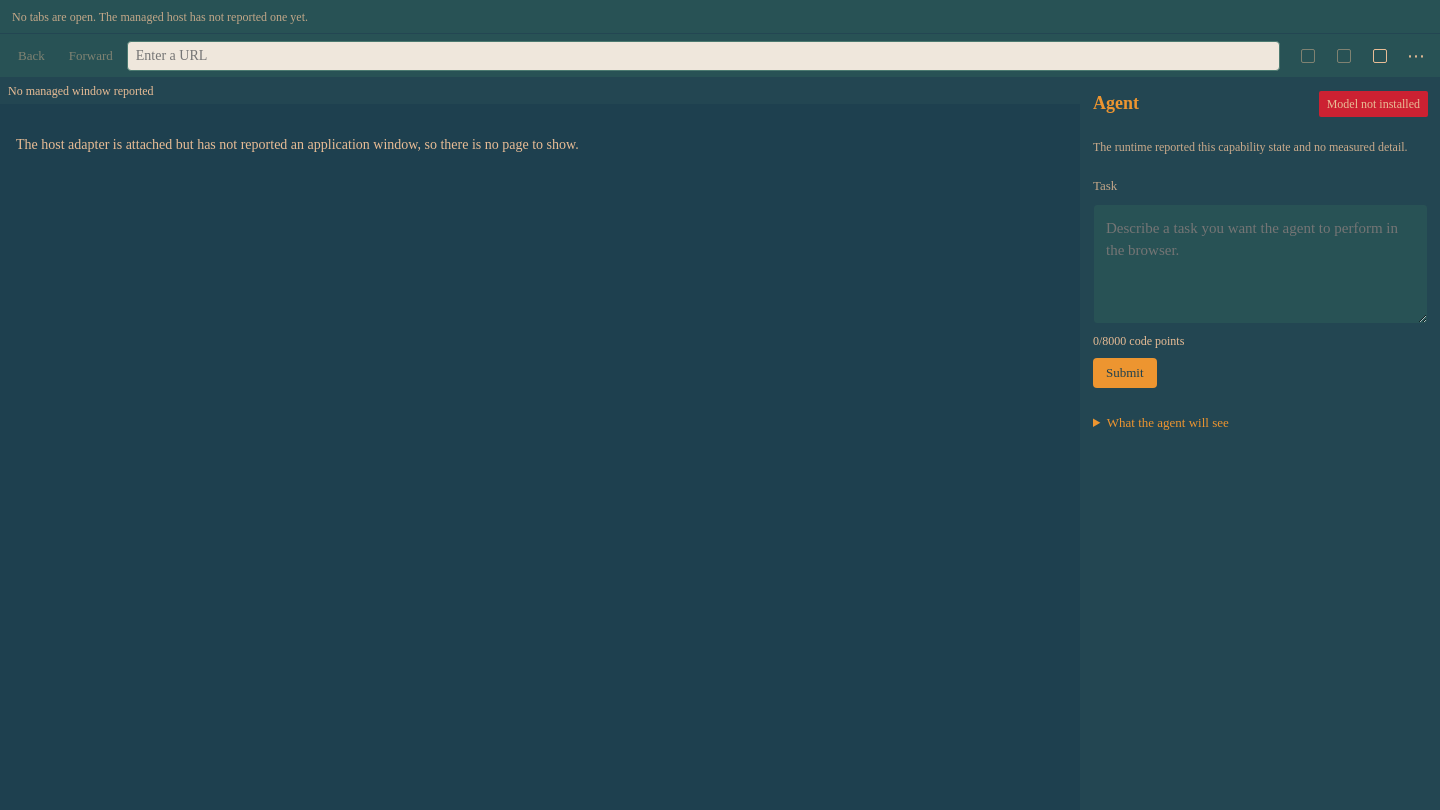
it: secondary screens render real runtime data › lists task history entries the runtime reported
Click the button named "Menu" at [1416, 56], box [1400,40,1432,72]
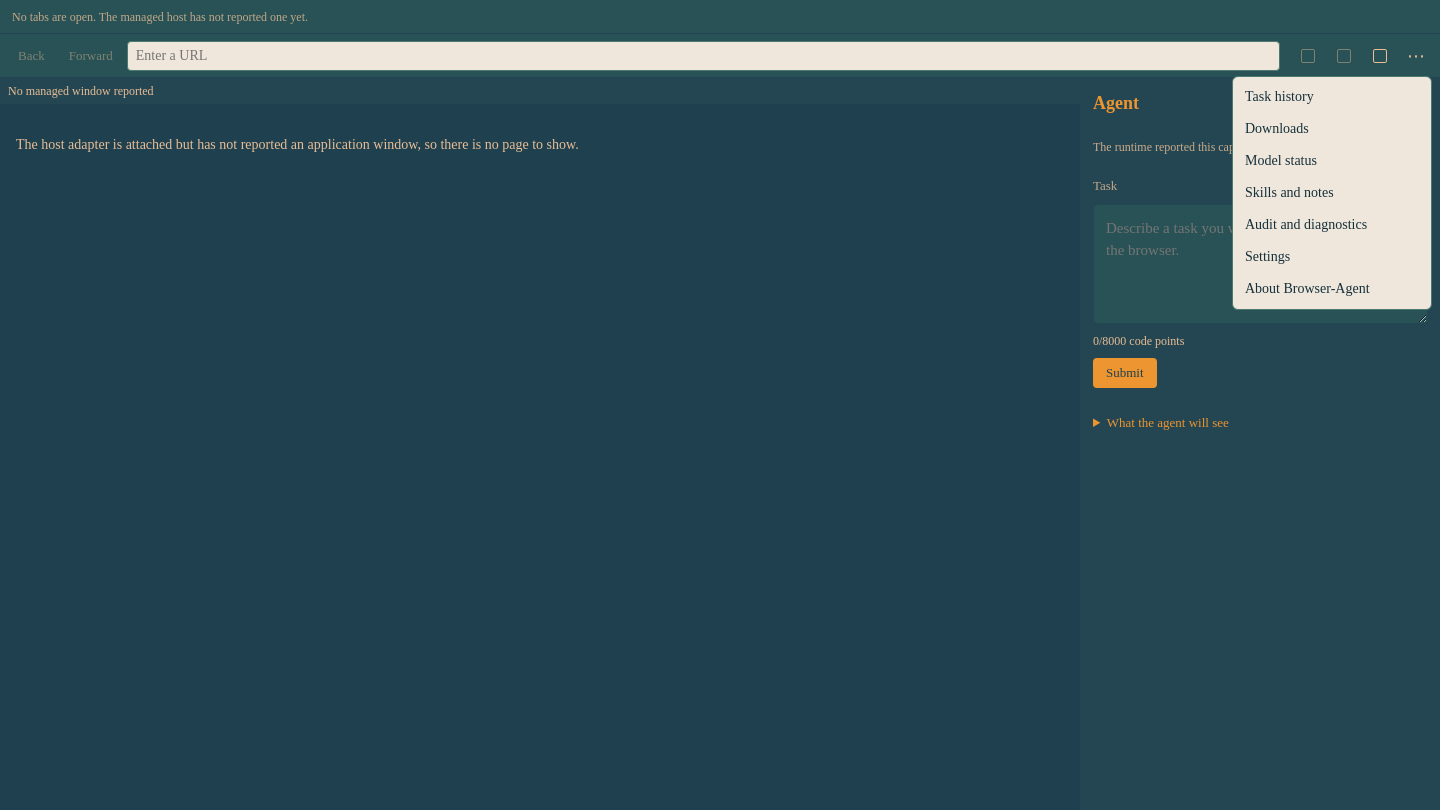
Click the menu item "Task history" at [1332, 96], box [1233,80,1431,112]
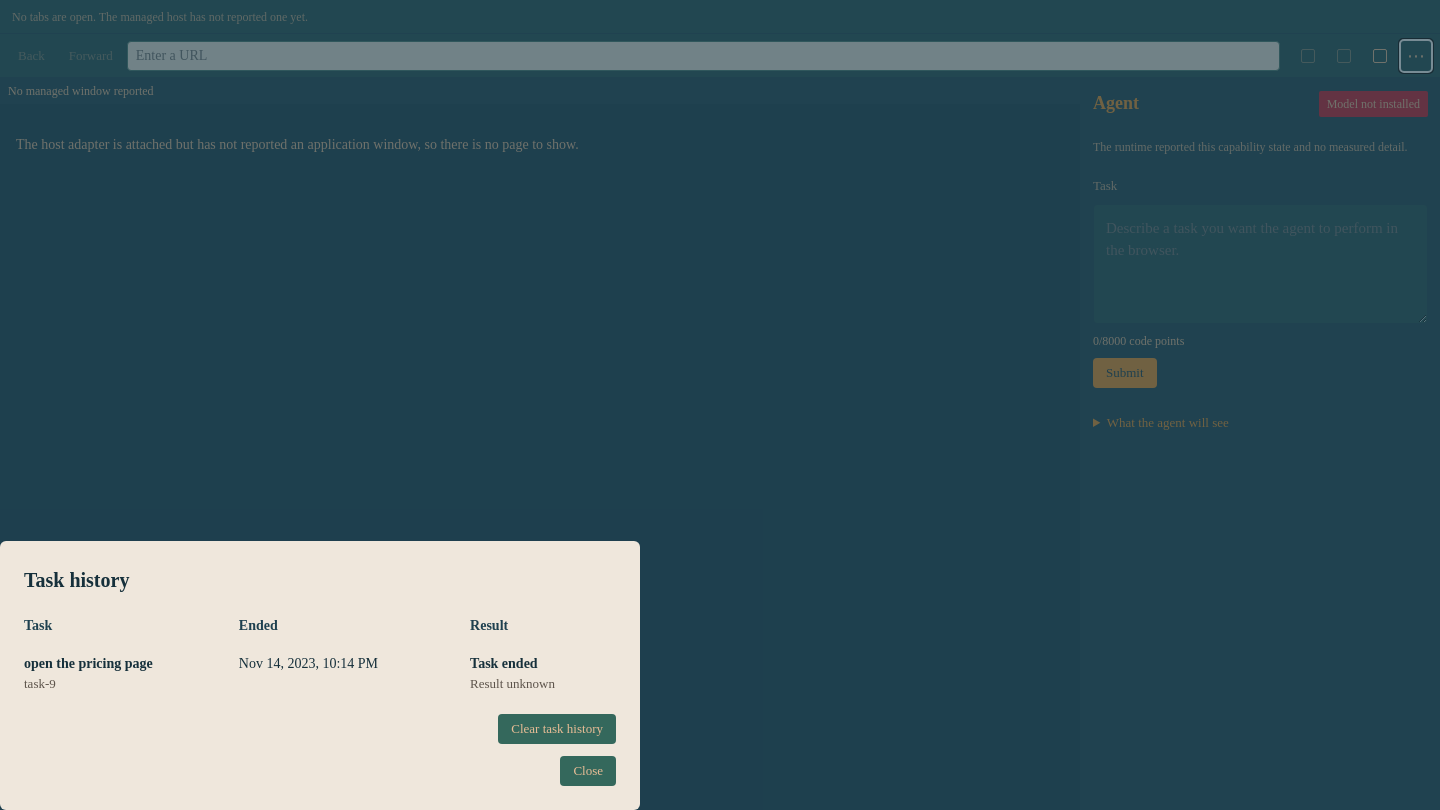
expect the text "open the pricing page" is shown: met, box [24,656,153,670]
expect the text "Task ended" is shown: met, box [470,656,538,670]
expect the text "Result unknown" is shown: met, box [470,676,555,690]
